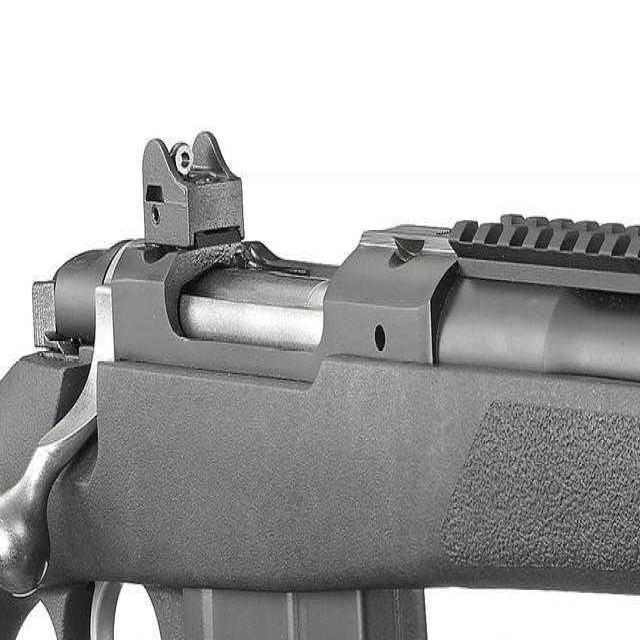heavyweapon: (1, 115, 640, 640)
